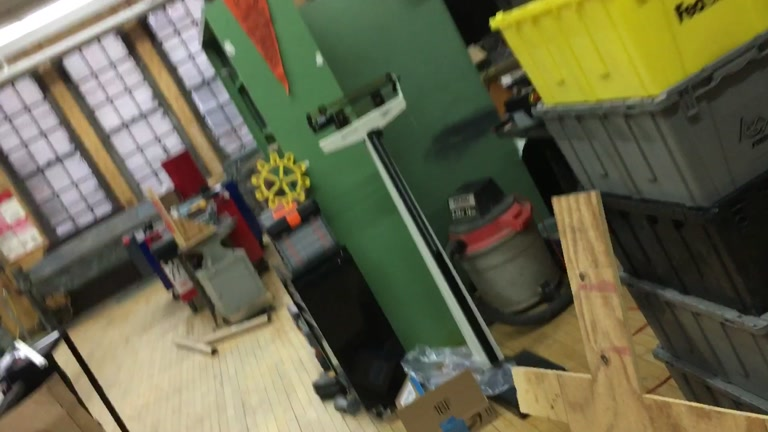gear: (250, 150, 312, 210)
